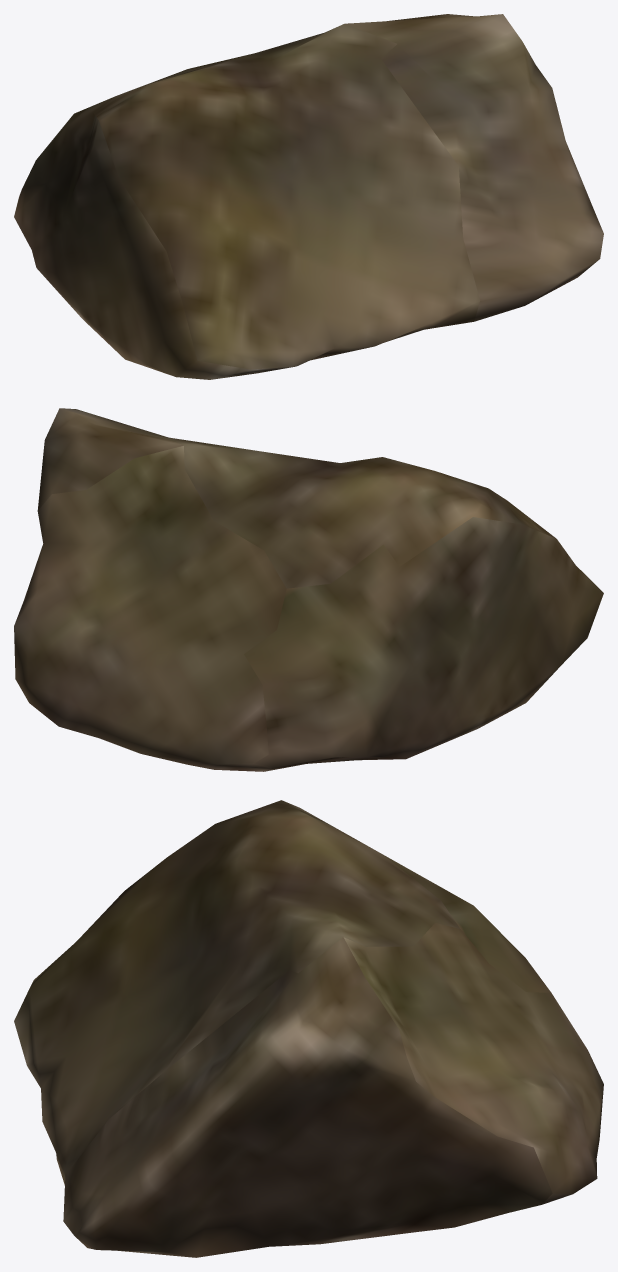
3 views of the same model, one above another, from view 1: azimuth 30°, elevation 25°; view 2: azimuth 150°, elevation 25°; view 3: azimuth 270°, elevation 25° (orthographic). The views are drawn at different scales.
Visible parts, largest first — view 1: rock_moss_set_01__c_lod2; view 2: rock_moss_set_01__c_lod2; view 3: rock_moss_set_01__c_lod2.
Boxes of the visible parts, box(x1,y1,x2,y2) form: rock_moss_set_01__c_lod2: box(14, 14, 603, 379); rock_moss_set_01__c_lod2: box(14, 408, 603, 771); rock_moss_set_01__c_lod2: box(14, 800, 603, 1257).
Size of the model in its own units: 2.08 by 1.09 by 2.07.
Materials: 1 (1 with a texture image).
